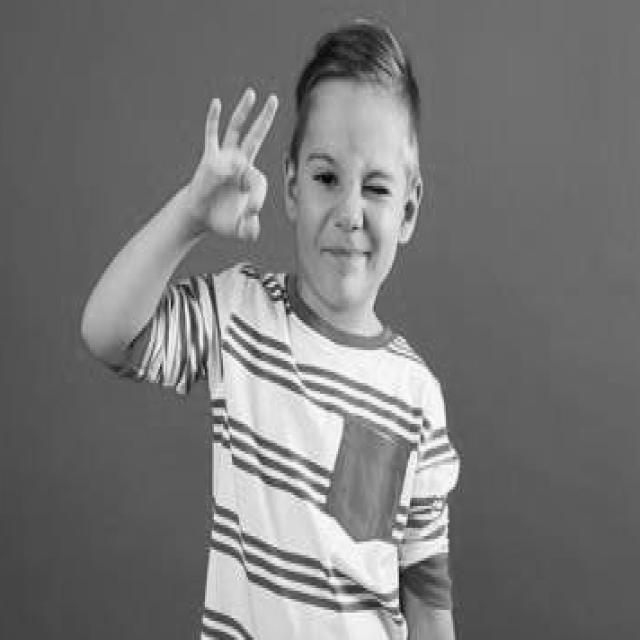perfect: (183, 79, 284, 246)
